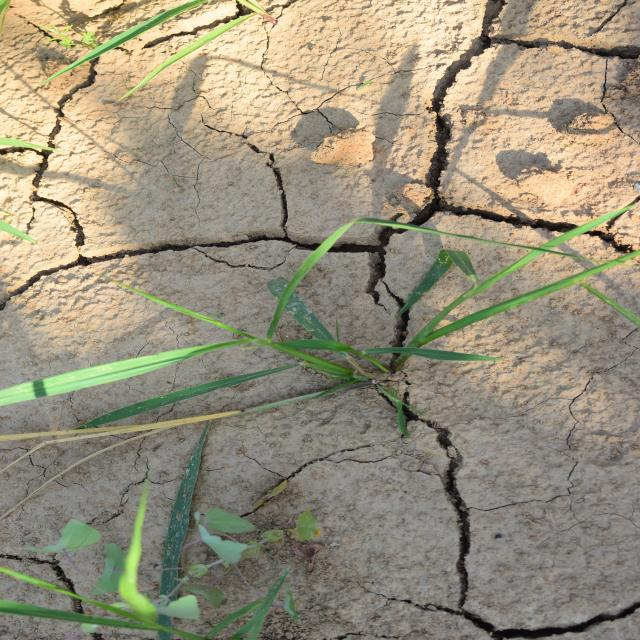green_foxtail: (236, 87, 426, 579)
